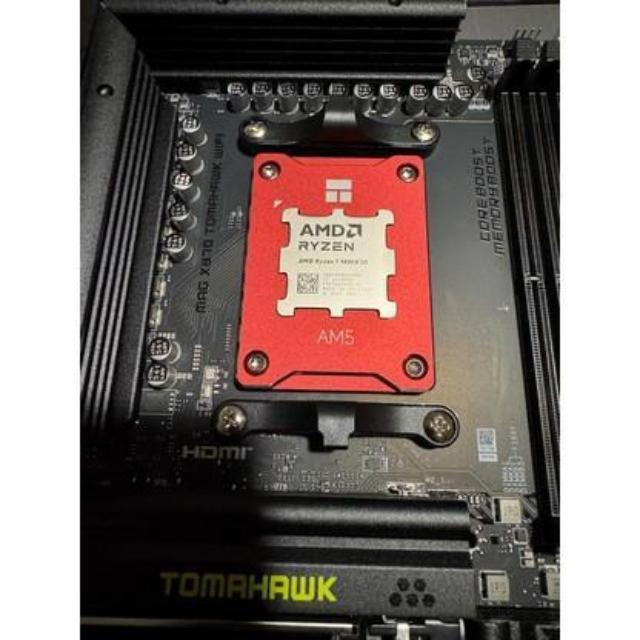CPU: (282, 205, 394, 322)
